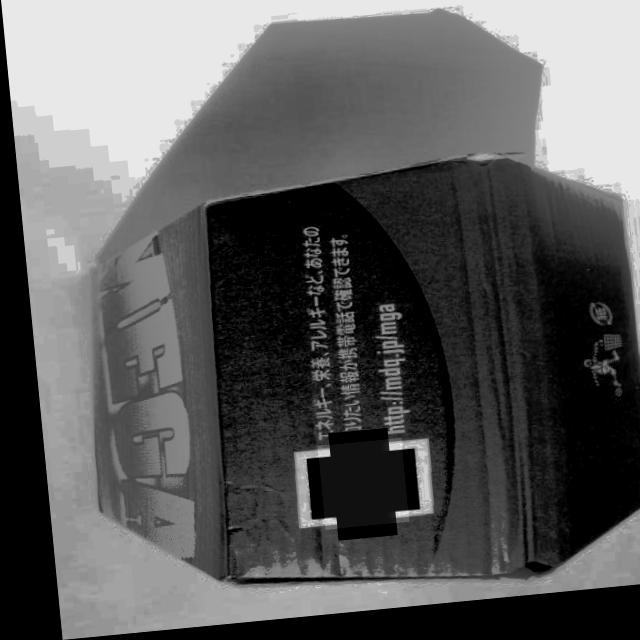qr_code: (307, 445, 397, 535)
